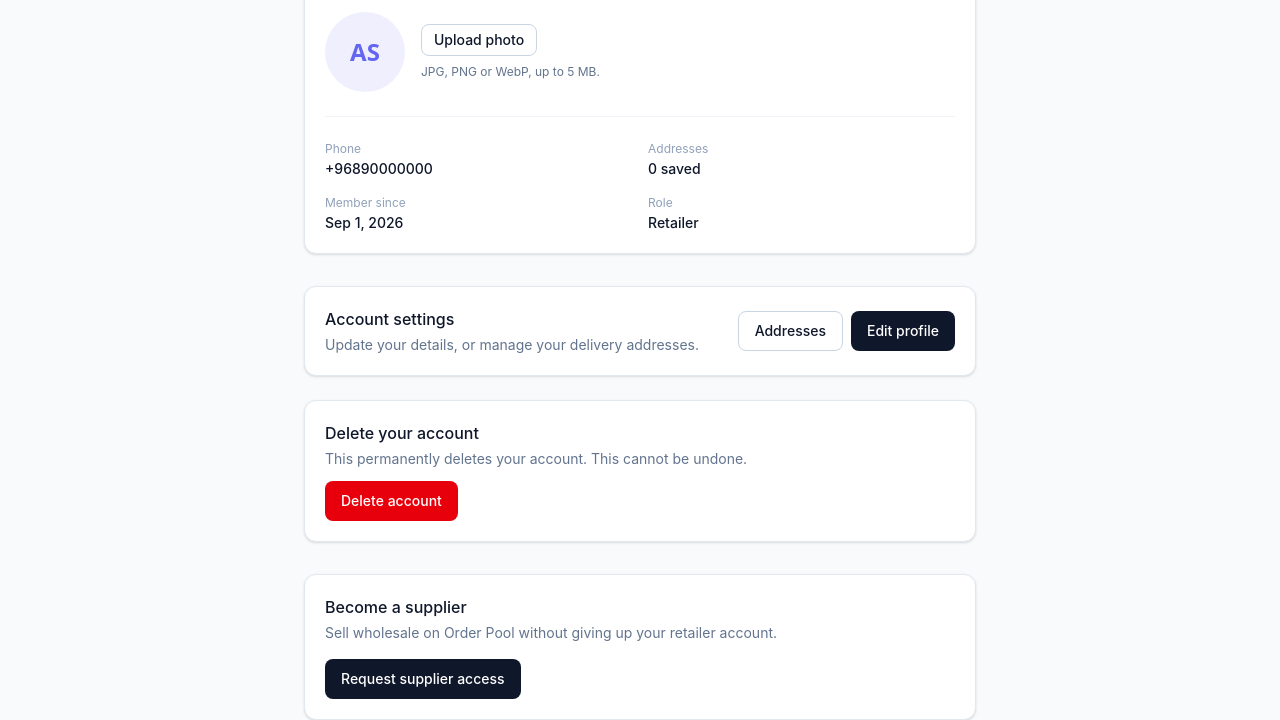
Test: ProfilePage (retailer) — filing a supplier request › requires a description before submitting
(page scrolled)
Click the button "Request supplier access".
click(423, 679)  # box [325,659,521,699]
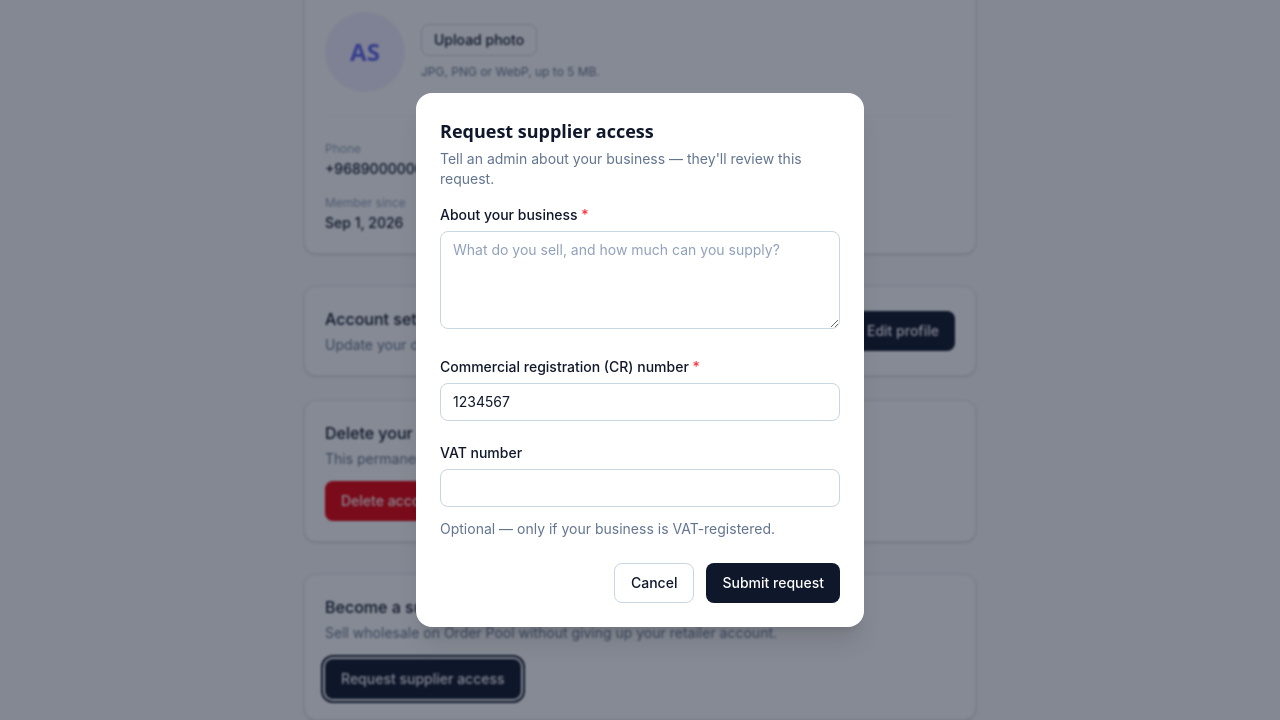
Click the button "Submit request".
click(773, 583)  # box [706,563,840,603]
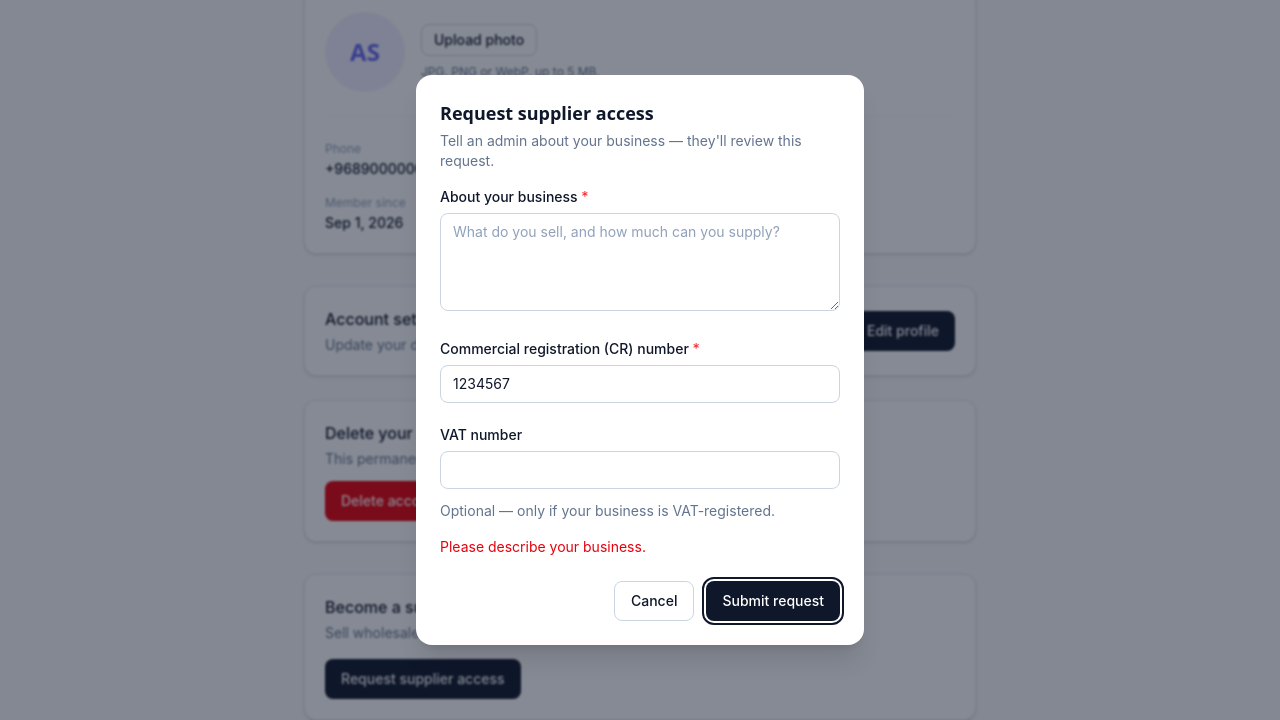
expect the text "Please describe your business." is shown: met, box [440,538,646,555]
